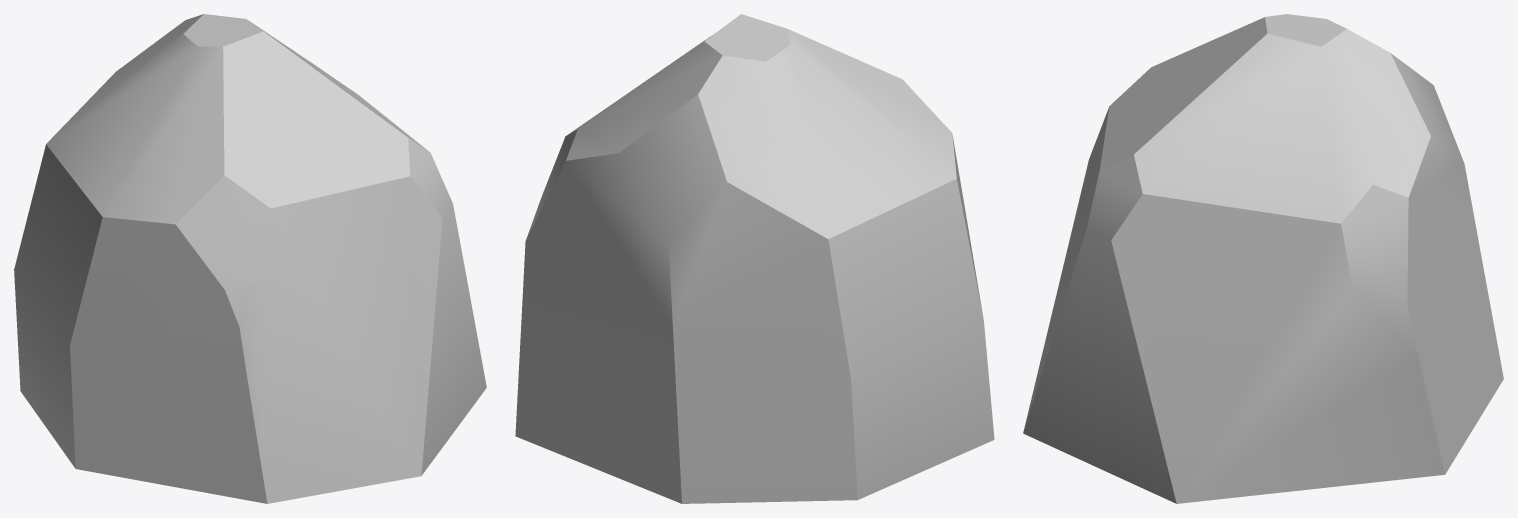
File: rock.fbx
3 views of the same model, side by side, from view 1: azimuth 30°, elevation 25°; view 2: azimuth 150°, elevation 25°; view 3: azimuth 270°, elevation 25° (orthographic). The views are drawn at different scales.
Parts seen in each view (by area): view 1: Cube.005; view 2: Cube.005; view 3: Cube.005.
Part boxes in pixels (bbox=[...]): Cube.005: bbox=[14, 14, 486, 503]; Cube.005: bbox=[515, 14, 994, 503]; Cube.005: bbox=[1023, 14, 1503, 503].
Size of the model in its own units: 0.6678 by 0.5982 by 0.6858.
1 material, 1 textured.
